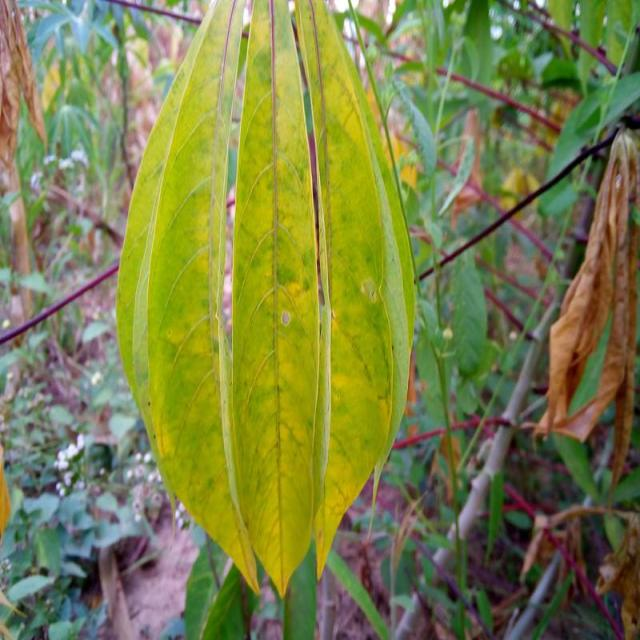cassava leaf: (116, 0, 418, 597), (116, 0, 261, 596)
